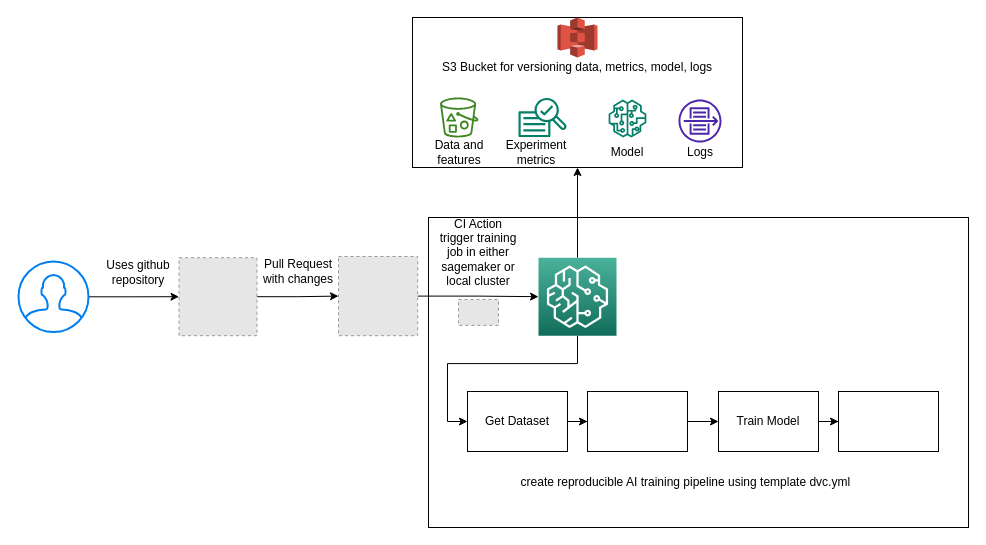
The diagram is 986 pixels wide and 545 high, and some of its shapes have lost their labels. Grey dashed boxes stand in for pictures. Each missing label, with the centre of its shape:
Create Metric: (x=888, y=421)
Extract Features: (x=637, y=421)
